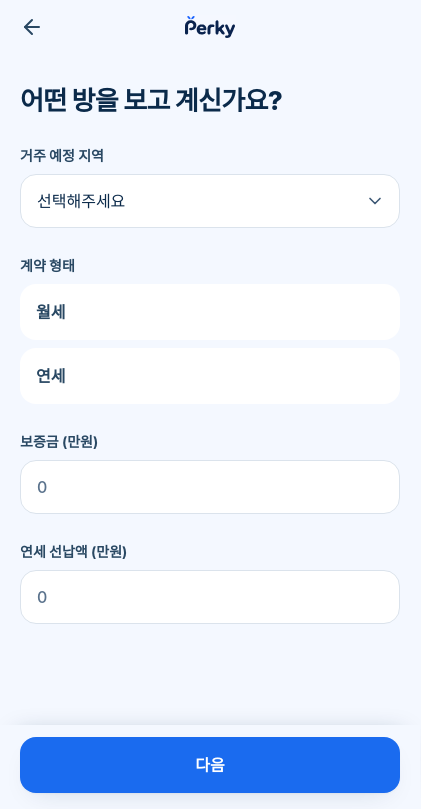
Test: /calculate 입력 검증 › 지역을 고르지 않으면 다음으로 넘어가지 않고 이유를 말한다
Step 1. Click the button "다음" → (210, 765), box [20,737,400,793]
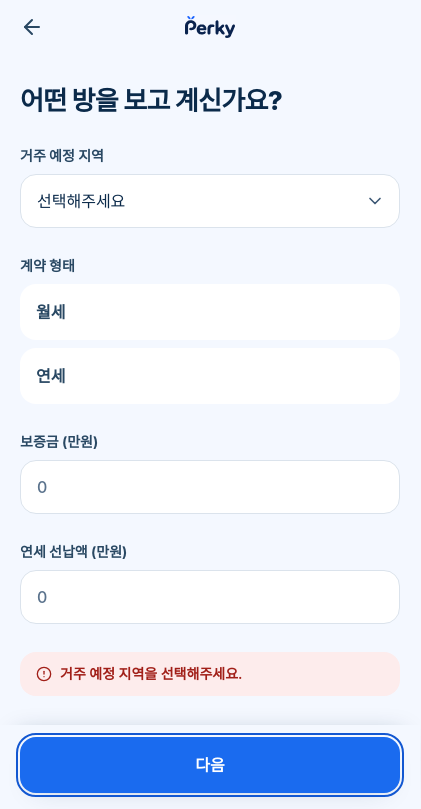
Check: the text "거주 예정 지역을 선택해주세요." is shown, box [60,664,242,684]
